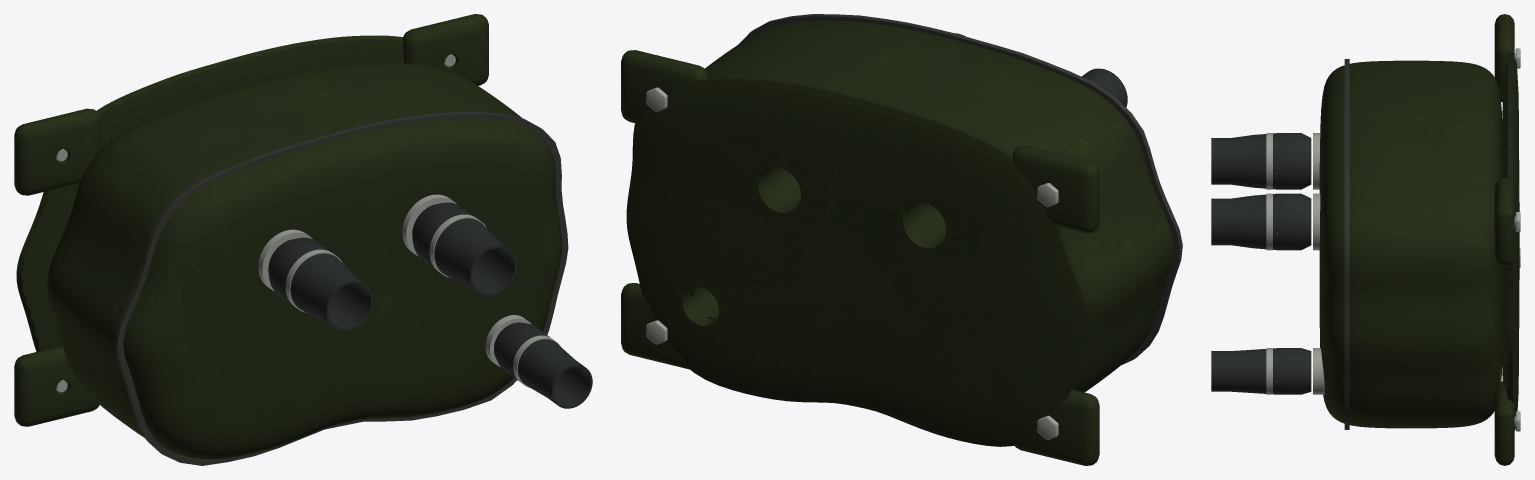
Rendered from stasis-wiring-enclosure.glb.
The picture shows the model from 3 angles, left to right: view 1: azimuth 30°, elevation 25°; view 2: azimuth 150°, elevation 25°; view 3: azimuth 270°, elevation 25°; orthographic projection. The views are drawn at different scales.
Parts seen in each view (by area): view 1: Cast enclosure body | source-fitted sparse cage, Rear mounting flange, Continuous lid seam gasket, power-2 black compression gland, power-1 black compression gland, Mounting ear 3, control-data black compression gland, Mounting ear 1, Mounting ear 4, power-1 sleeve collar 1, power-2 sleeve collar 1, control-data sleeve collar 1; view 2: Rear mounting flange, Cast enclosure body | source-fitted sparse cage, Continuous lid seam gasket, Mounting ear 3, Mounting ear 1, Mounting ear 4, Mounting ear 2, power-1 black compression gland; view 3: Cast enclosure body | source-fitted sparse cage, power-2 black compression gland, power-1 black compression gland, Rear mounting flange, control-data black compression gland, Continuous lid seam gasket, Mounting ear 4, Mounting ear 2, Mounting ear 3, control-data sleeve collar 1, power-2 sleeve collar 1, power-2 sleeve collar 2 (+3 smaller).
Boxes of the visible parts, bbox=[...] form: Cast enclosure body | source-fitted sparse cage: bbox=[47, 62, 561, 459]; Rear mounting flange: bbox=[16, 35, 403, 351]; Continuous lid seam gasket: bbox=[114, 111, 568, 465]; power-2 black compression gland: bbox=[412, 202, 516, 296]; power-1 black compression gland: bbox=[268, 237, 373, 331]; Mounting ear 3: bbox=[14, 108, 100, 195]; control-data black compression gland: bbox=[494, 322, 592, 408]; Mounting ear 1: bbox=[14, 347, 99, 426]; Mounting ear 4: bbox=[402, 14, 488, 85]; power-1 sleeve collar 1: bbox=[258, 229, 312, 291]; power-2 sleeve collar 1: bbox=[402, 194, 456, 256]; control-data sleeve collar 1: bbox=[485, 315, 531, 366]; Rear mounting flange: bbox=[626, 77, 1089, 446]; Cast enclosure body | source-fitted sparse cage: bbox=[691, 20, 1173, 392]; Continuous lid seam gasket: bbox=[738, 14, 1182, 365]; Mounting ear 3: bbox=[1012, 145, 1099, 232]; Mounting ear 1: bbox=[1015, 389, 1099, 465]; Mounting ear 4: bbox=[621, 50, 708, 123]; Mounting ear 2: bbox=[621, 283, 708, 369]; power-1 black compression gland: bbox=[1081, 68, 1127, 107]; Cast enclosure body | source-fitted sparse cage: bbox=[1319, 60, 1502, 428]; power-2 black compression gland: bbox=[1211, 193, 1311, 250]; power-1 black compression gland: bbox=[1211, 133, 1311, 189]; Rear mounting flange: bbox=[1502, 53, 1519, 430]; control-data black compression gland: bbox=[1211, 348, 1311, 394]; Continuous lid seam gasket: bbox=[1344, 59, 1349, 429]; Mounting ear 4: bbox=[1494, 177, 1514, 266]; Mounting ear 2: bbox=[1494, 381, 1514, 465]; Mounting ear 3: bbox=[1494, 14, 1514, 102]; control-data sleeve collar 1: bbox=[1313, 348, 1324, 394]; power-2 sleeve collar 1: bbox=[1313, 193, 1320, 250]; power-2 sleeve collar 2: bbox=[1266, 193, 1272, 250].
Bounding box in the file's own units: 0.282 × 0.183 × 0.1855.
Materials: 4 (1 with a texture image).
